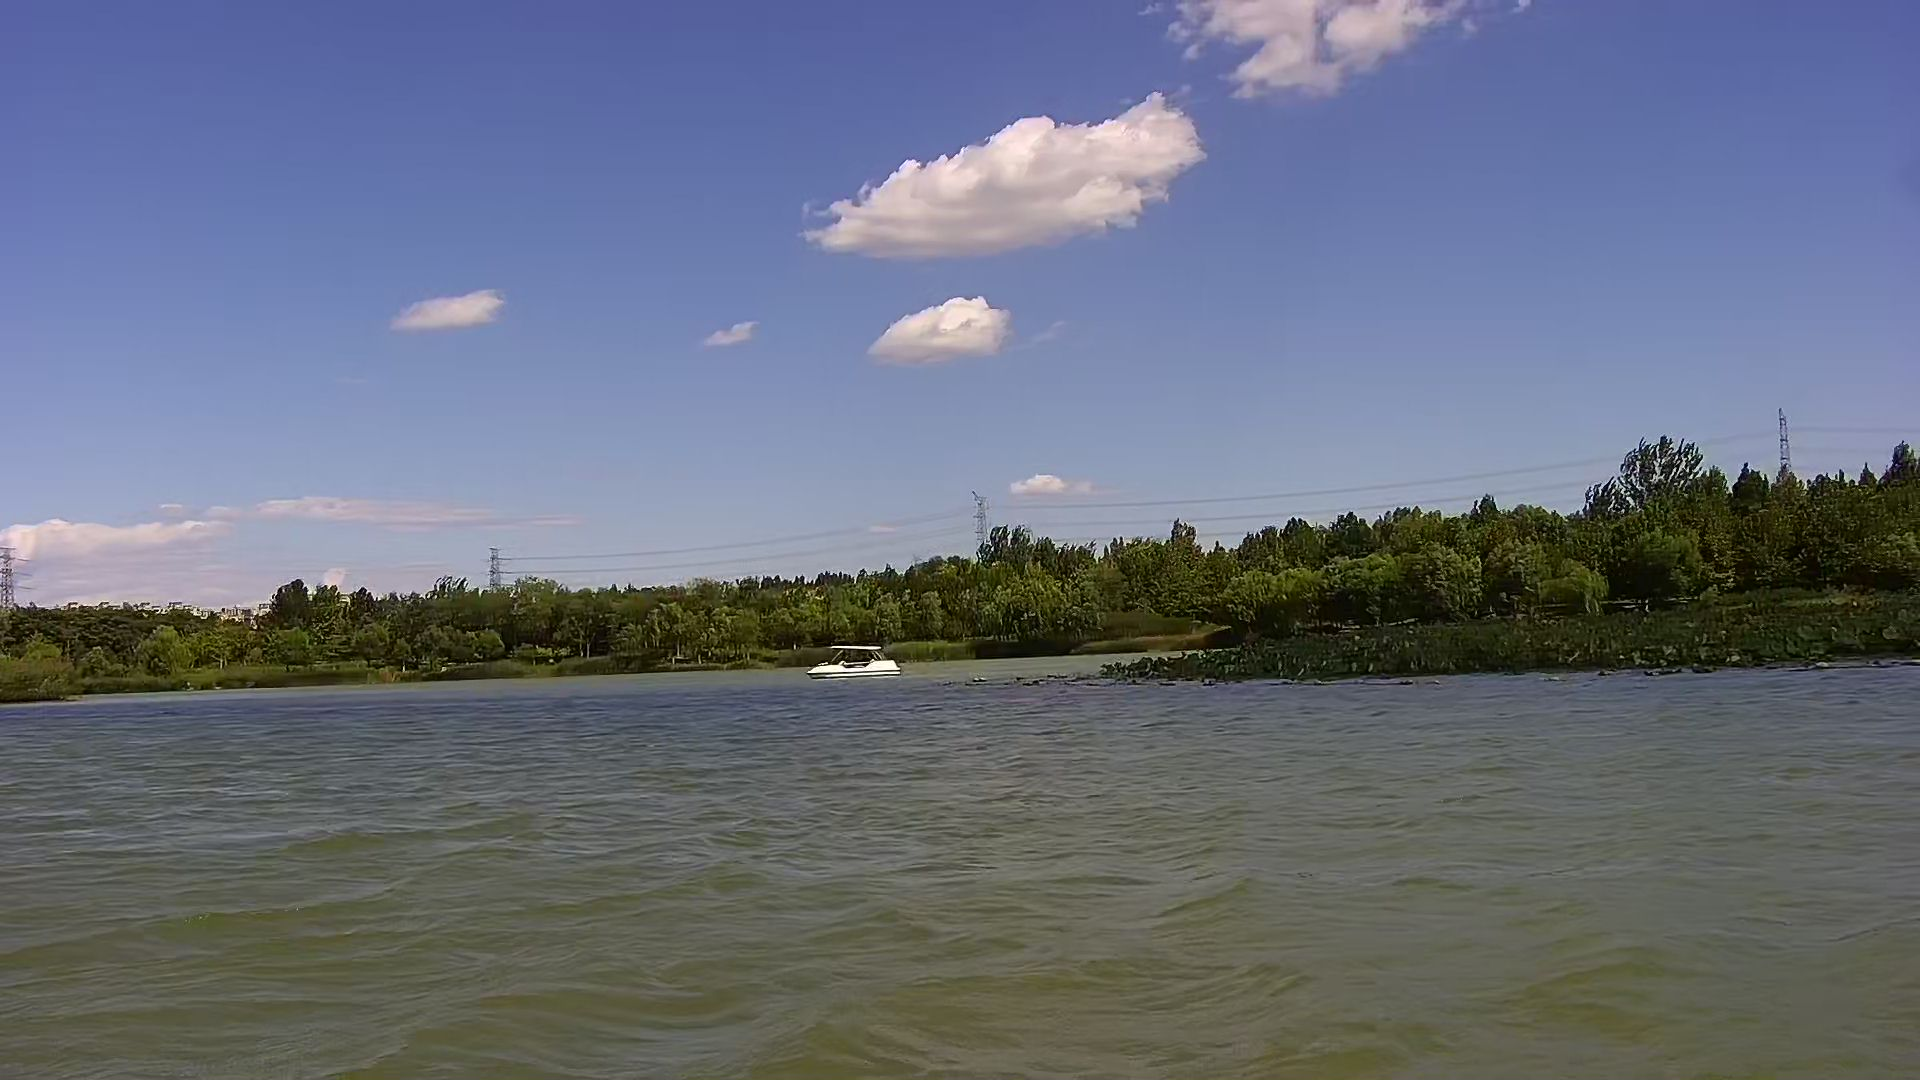boat: (802, 642, 905, 682)
